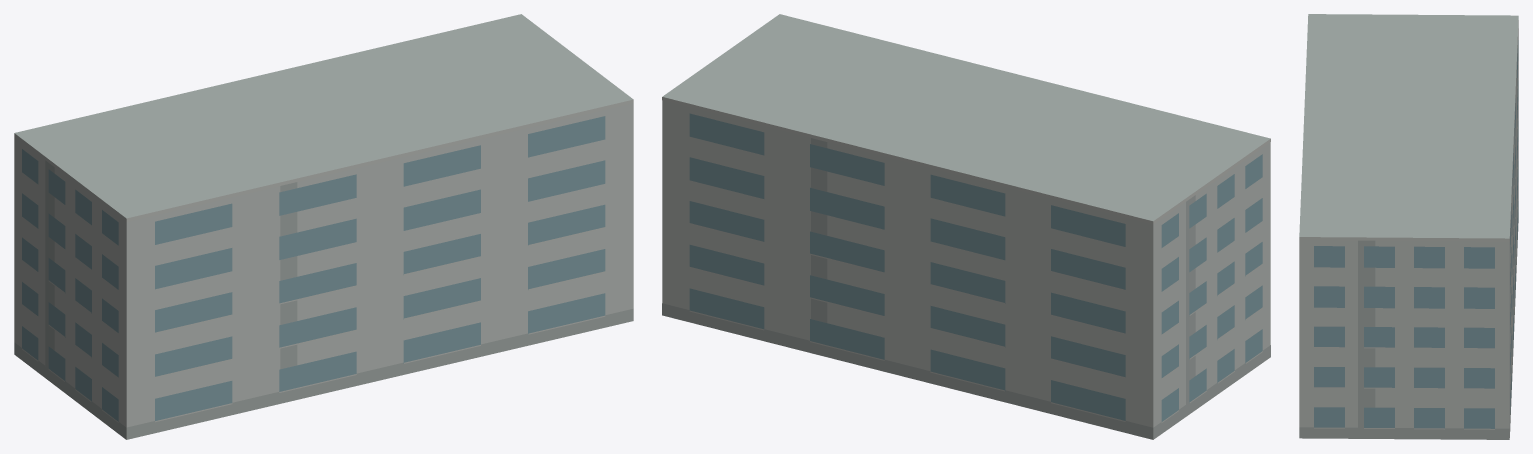
File: residential-1e2092c4-6e72-47b4-bda3-e5a59d7cf6f1.glb
3 renders of one model, left to right at view 1: azimuth 30°, elevation 25°; view 2: azimuth 150°, elevation 25°; view 3: azimuth 270°, elevation 25°, orthographic. The views are drawn at different scales.
Parts seen in each view (by area): view 1: residential-1e2092c4-6e72-47b4-bda3-e5a59d7cf6f1.tmp; view 2: residential-1e2092c4-6e72-47b4-bda3-e5a59d7cf6f1.tmp; view 3: residential-1e2092c4-6e72-47b4-bda3-e5a59d7cf6f1.tmp.
Part boxes in pixels (x1,y1,x2,y2): residential-1e2092c4-6e72-47b4-bda3-e5a59d7cf6f1.tmp: (14,14,633,439); residential-1e2092c4-6e72-47b4-bda3-e5a59d7cf6f1.tmp: (662,14,1270,439); residential-1e2092c4-6e72-47b4-bda3-e5a59d7cf6f1.tmp: (1299,14,1518,439).
Bounding box in the file's own units: 36.46 × 15.25 × 15.06.
